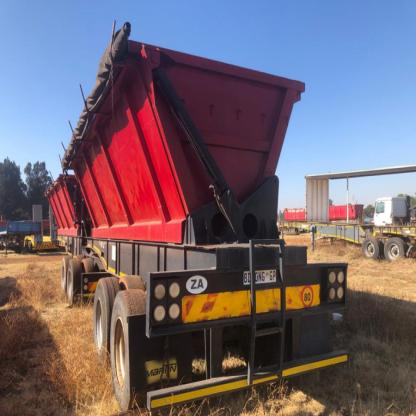dump_truck: (44, 21, 353, 407)
